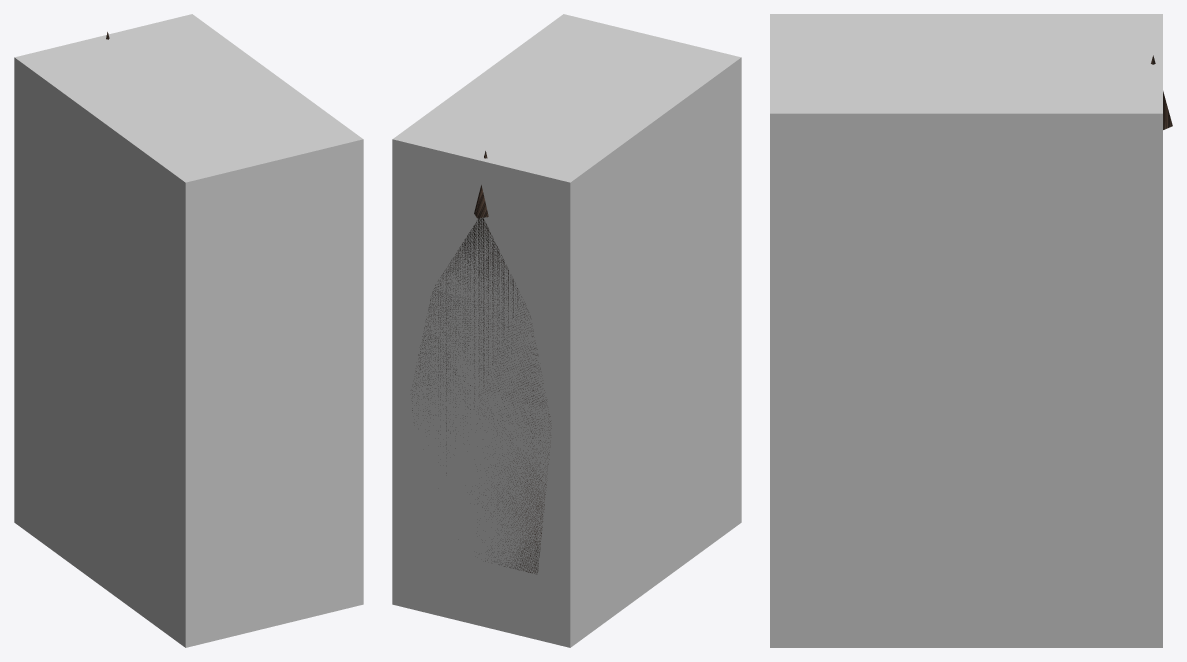
File: wall_sconce_v1.glb
3 renders of one model, left to right at view 1: azimuth 30°, elevation 25°; view 2: azimuth 150°, elevation 25°; view 3: azimuth 270°, elevation 25°, orthographic. The views are drawn at different scales.
Visible parts, largest first — view 1: col_sconce; view 2: col_sconce, sconce; view 3: col_sconce.
Boxes of the visible parts, bbox=[...] form: col_sconce: bbox=[14, 14, 363, 647]; col_sconce: bbox=[392, 14, 741, 647]; sconce: bbox=[412, 151, 551, 574]; col_sconce: bbox=[770, 14, 1162, 647].
Bounding box in the file's own units: 0.24 × 0.61 × 0.41.
3 materials, 3 textured.
